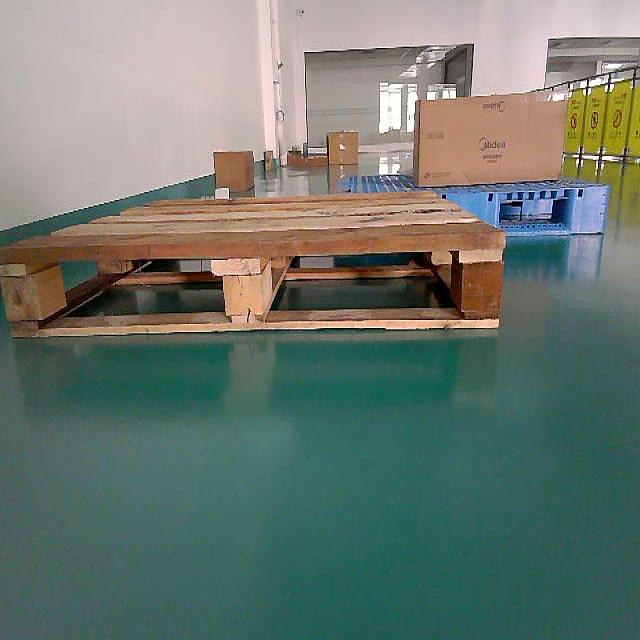euro: (0, 191, 505, 337)
